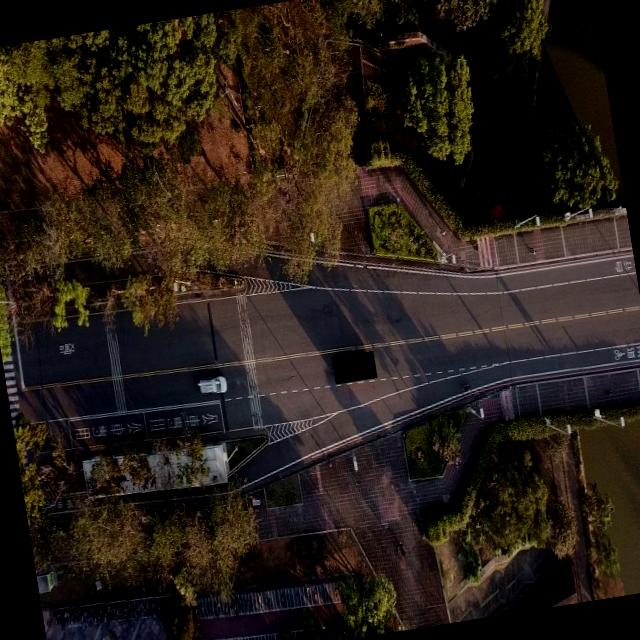bike: (395, 540, 406, 558)
car: (194, 373, 230, 400)
